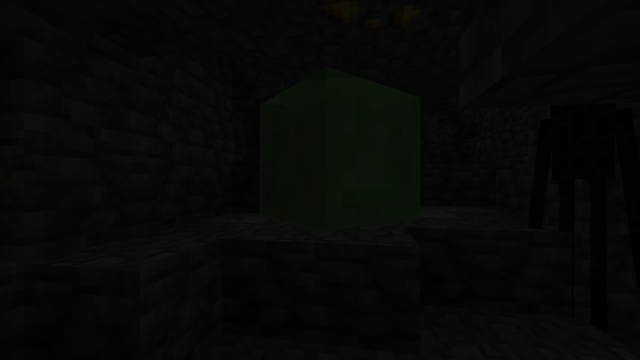endermens: (536, 126, 639, 335)
slimes: (255, 66, 406, 227)
